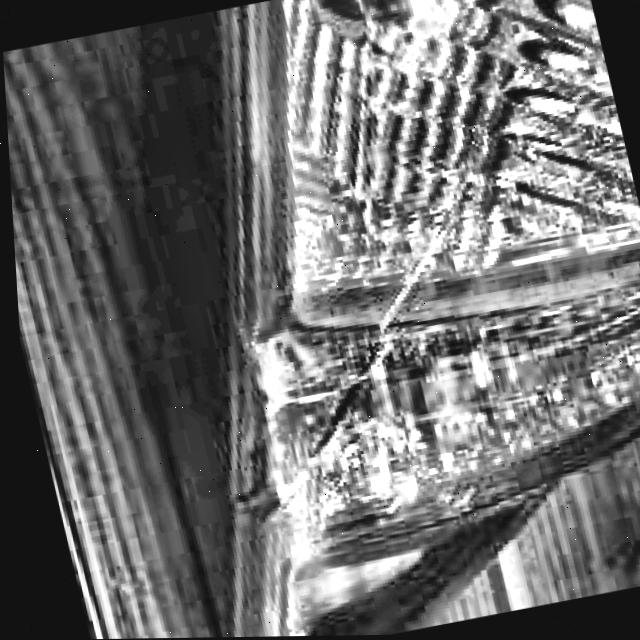tail_lamp: (165, 0, 640, 507)
